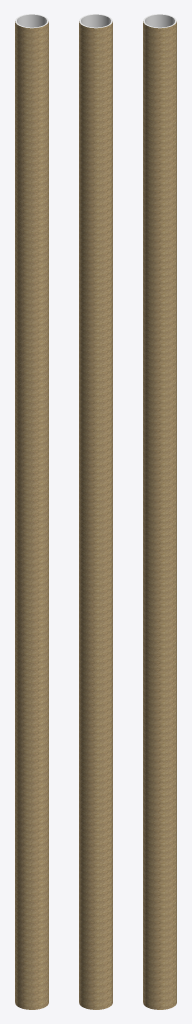
The model's file is Cylinder_Hell.obj.
3 views of the same model, side by side, from view 1: azimuth 90°, elevation 25°; view 2: azimuth 210°, elevation 25°; view 3: azimuth 270°, elevation 25° (orthographic).
Visible parts, largest first — view 1: Mesh1 Model; view 2: Mesh1 Model; view 3: Mesh1 Model.
Part boxes in pixels (box(x1,y1,x2,y2)): Mesh1 Model: box(15, 14, 48, 1009); Mesh1 Model: box(79, 14, 112, 1009); Mesh1 Model: box(143, 14, 176, 1009).
Size of the model in its own units: 3.98 by 128 by 3.98.
